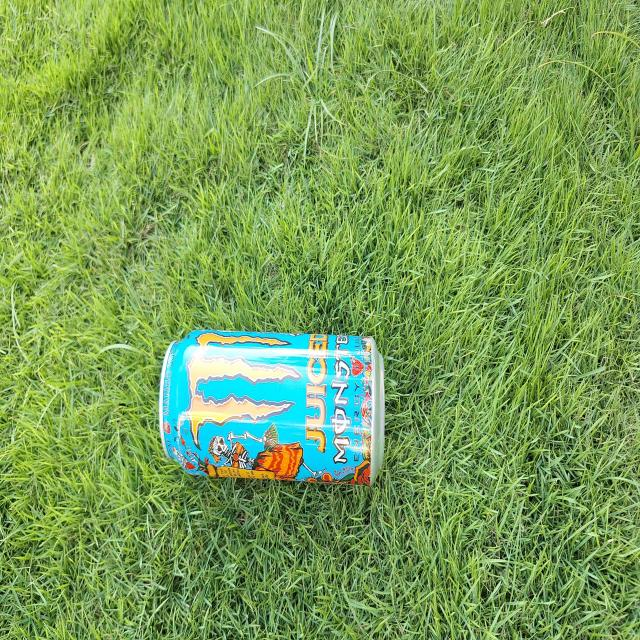Monster Mango Loco: (162, 332, 387, 484)
